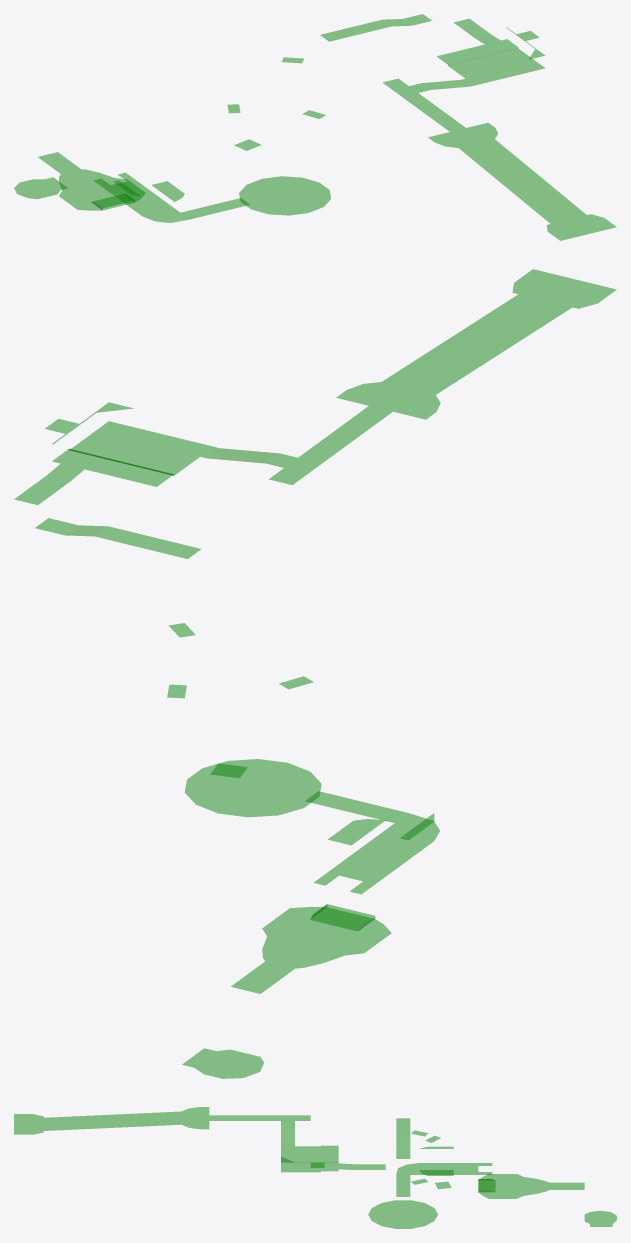
The model's file is hit_A_yuka.obj.
3 views of the same model, one above another, from view 1: azimuth 30°, elevation 25°; view 2: azimuth 150°, elevation 25°; view 3: azimuth 270°, elevation 25° (orthographic). The views are drawn at different scales.
Size of the model in its own units: 170 by 103 by 346.
